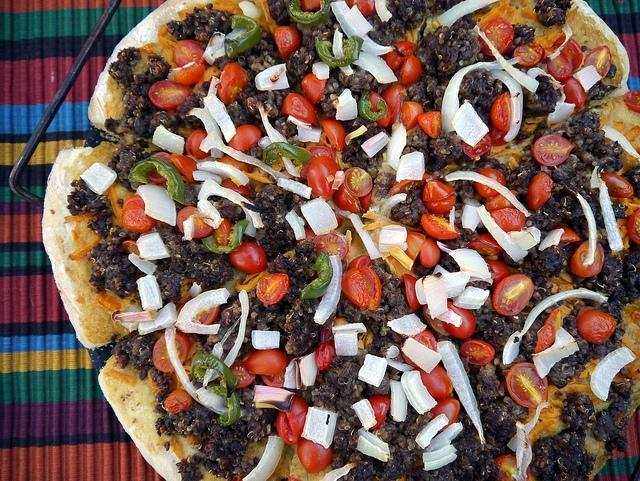onion: (441, 56, 521, 132), (437, 340, 488, 450), (165, 324, 223, 415), (515, 288, 609, 340), (200, 130, 290, 182), (473, 26, 539, 92), (443, 170, 533, 218), (330, 0, 404, 58), (248, 98, 300, 176), (198, 178, 278, 228), (476, 204, 528, 262), (202, 316, 242, 387), (530, 326, 580, 379), (174, 288, 230, 335), (590, 347, 636, 401), (490, 69, 523, 142), (181, 108, 224, 158), (598, 172, 624, 252), (314, 254, 343, 325), (223, 290, 249, 368), (450, 99, 490, 148), (242, 436, 284, 480), (182, 198, 224, 241), (135, 184, 176, 227), (400, 370, 438, 416), (576, 192, 598, 268), (224, 14, 261, 58), (348, 213, 382, 260), (301, 406, 337, 448), (301, 196, 338, 236), (402, 337, 442, 374), (352, 52, 398, 84), (448, 248, 492, 280), (138, 302, 178, 336), (196, 162, 250, 186), (422, 272, 449, 320), (441, 271, 488, 298), (252, 385, 296, 413), (415, 414, 449, 450), (424, 422, 464, 452), (80, 162, 117, 194), (386, 116, 407, 170), (548, 87, 576, 125), (387, 313, 427, 339), (344, 4, 374, 38), (332, 28, 353, 76), (396, 151, 426, 183), (294, 351, 318, 391), (358, 428, 390, 458), (152, 126, 184, 156), (358, 354, 387, 387), (136, 232, 170, 260), (350, 398, 378, 432), (254, 64, 290, 90), (136, 274, 162, 310), (378, 224, 408, 254), (195, 386, 229, 412), (356, 436, 388, 462), (573, 64, 602, 92), (277, 178, 313, 200), (361, 131, 390, 158), (202, 32, 225, 66), (508, 227, 542, 250), (426, 307, 463, 328), (390, 379, 408, 422), (516, 420, 530, 474), (502, 330, 522, 366), (422, 444, 457, 464), (128, 252, 158, 275), (333, 330, 359, 356), (112, 309, 158, 323), (285, 210, 306, 240), (538, 228, 564, 252), (458, 286, 489, 306), (251, 330, 280, 350), (380, 193, 407, 214), (462, 205, 482, 232), (192, 170, 222, 185), (336, 100, 358, 120), (332, 323, 367, 335), (296, 126, 322, 142), (238, 0, 260, 18), (375, 1, 392, 22), (312, 61, 330, 80), (386, 345, 400, 358)
tomato: (505, 362, 548, 408), (492, 273, 534, 316), (152, 332, 190, 374), (412, 364, 453, 400), (306, 156, 339, 200), (260, 350, 298, 388), (478, 16, 514, 56), (532, 134, 575, 166), (402, 330, 438, 368), (576, 310, 616, 344), (148, 80, 192, 110), (218, 62, 248, 106), (297, 438, 333, 474), (570, 240, 604, 278), (441, 302, 476, 338), (122, 200, 157, 234), (300, 146, 336, 179), (177, 206, 214, 238), (230, 242, 268, 273), (173, 300, 220, 325), (282, 93, 318, 125), (244, 348, 286, 375), (216, 361, 256, 389), (312, 230, 348, 261), (381, 84, 404, 132), (342, 268, 368, 310), (256, 273, 290, 305), (420, 213, 460, 240), (495, 454, 535, 481), (466, 232, 504, 260), (388, 173, 434, 196), (429, 398, 460, 432), (582, 45, 612, 80), (552, 36, 582, 71), (526, 172, 553, 210), (384, 40, 416, 72), (542, 46, 572, 80), (358, 266, 381, 310), (286, 396, 310, 438), (228, 124, 262, 152), (321, 318, 349, 352), (170, 153, 200, 184), (475, 168, 506, 198), (423, 304, 452, 336), (173, 40, 206, 68), (460, 340, 495, 366), (332, 184, 362, 214), (343, 167, 373, 197), (490, 208, 526, 233), (276, 410, 301, 446), (275, 26, 301, 60), (319, 118, 346, 150), (560, 76, 587, 108), (368, 394, 391, 431), (301, 72, 327, 104), (491, 92, 512, 131), (486, 258, 510, 292), (369, 90, 391, 127), (148, 152, 174, 183), (602, 173, 634, 198), (185, 130, 211, 160), (462, 133, 492, 159), (423, 193, 456, 216), (422, 180, 456, 202), (404, 232, 426, 266), (485, 190, 516, 214), (514, 42, 542, 68), (399, 101, 424, 130), (404, 274, 422, 312), (174, 64, 205, 86), (401, 54, 422, 86), (418, 111, 442, 139), (164, 390, 192, 414), (212, 216, 234, 246), (534, 325, 556, 354), (420, 237, 440, 268), (217, 155, 249, 173), (221, 178, 252, 196), (550, 225, 581, 242), (488, 121, 508, 147), (316, 342, 334, 370), (348, 0, 377, 16), (628, 210, 640, 245), (348, 255, 376, 270), (623, 88, 639, 112), (296, 227, 316, 244), (358, 189, 372, 212), (122, 240, 140, 256), (332, 208, 344, 230), (300, 0, 320, 12), (232, 475, 246, 480), (288, 477, 302, 481)
